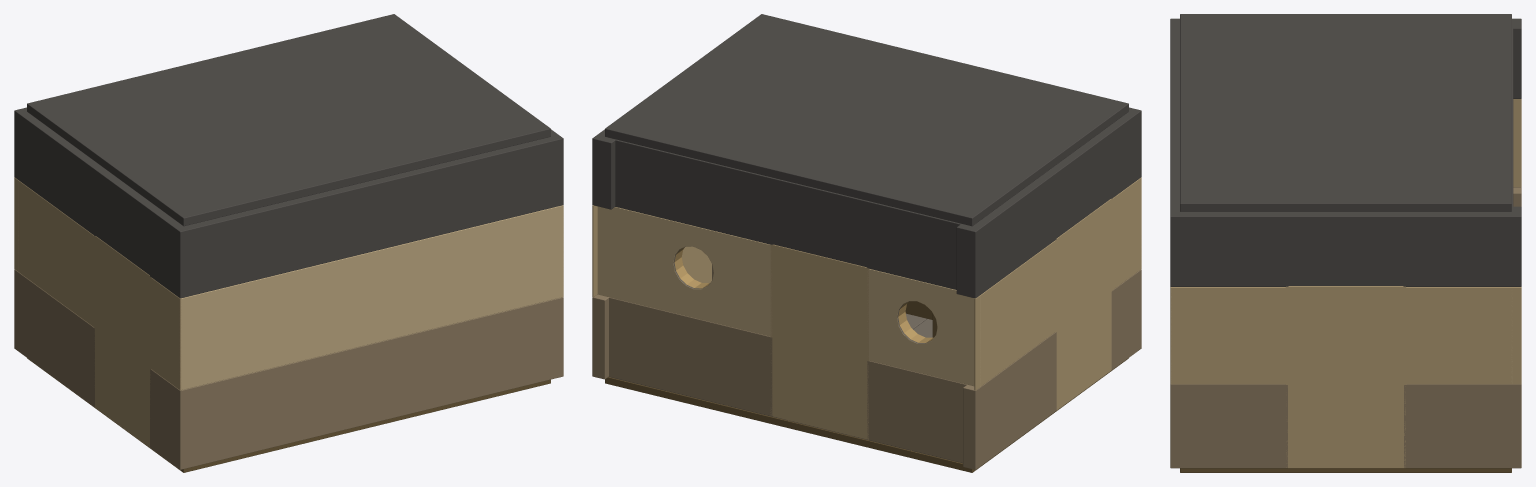
Rendered from plot.glb.
3 renders of one model, left to right at view 1: azimuth 30°, elevation 25°; view 2: azimuth 150°, elevation 25°; view 3: azimuth 270°, elevation 25°, orthographic. The views are drawn at different scales.
Parts seen in each view (by area): view 1: PLOT; view 2: PLOT; view 3: PLOT.
Boxes of the visible parts, bbox=[...] form: PLOT: bbox=[14, 14, 563, 472]; PLOT: bbox=[592, 14, 1141, 472]; PLOT: bbox=[1170, 14, 1521, 472].
Size of the model in its own units: 4.8 by 3.05 by 3.6.
